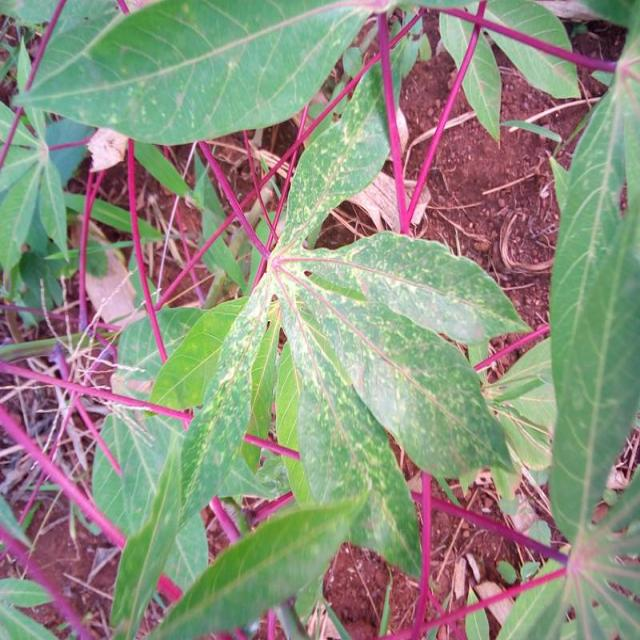cassava leaf: (13, 0, 374, 146)
